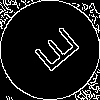E: (25, 25, 82, 80)
